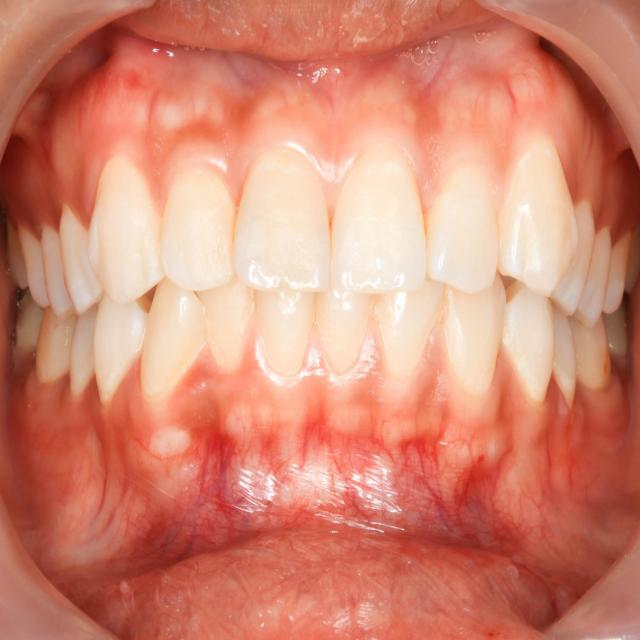tooth: (330, 144, 427, 294), (233, 150, 331, 293), (497, 132, 580, 297), (87, 154, 166, 304), (425, 163, 498, 295), (159, 171, 238, 291), (140, 278, 207, 403), (441, 272, 506, 394), (374, 272, 445, 379), (501, 279, 555, 406), (93, 294, 152, 406), (315, 277, 376, 369), (196, 274, 255, 367), (549, 201, 595, 315), (254, 289, 316, 372), (59, 202, 104, 315), (574, 225, 612, 327), (566, 314, 610, 388), (41, 225, 76, 318), (36, 307, 78, 383), (70, 301, 101, 397), (17, 222, 50, 308), (551, 300, 577, 409)
